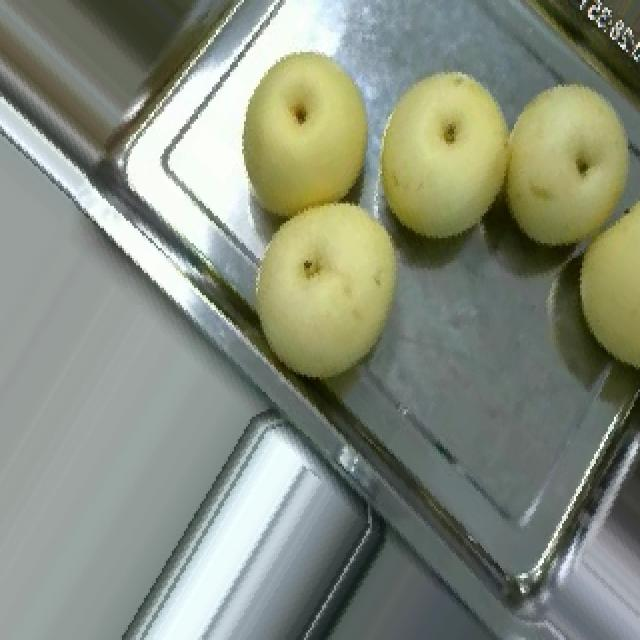Fruit: (232, 188, 416, 392), (360, 47, 534, 261), (480, 59, 640, 276), (222, 37, 384, 231), (554, 166, 640, 394)
